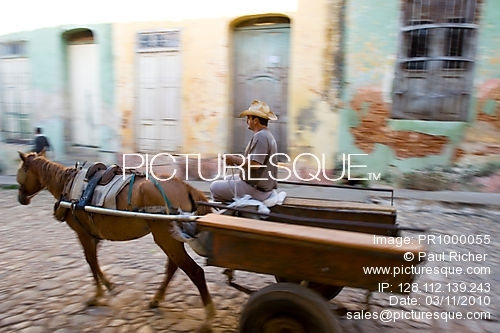horse: (15, 148, 215, 317)
